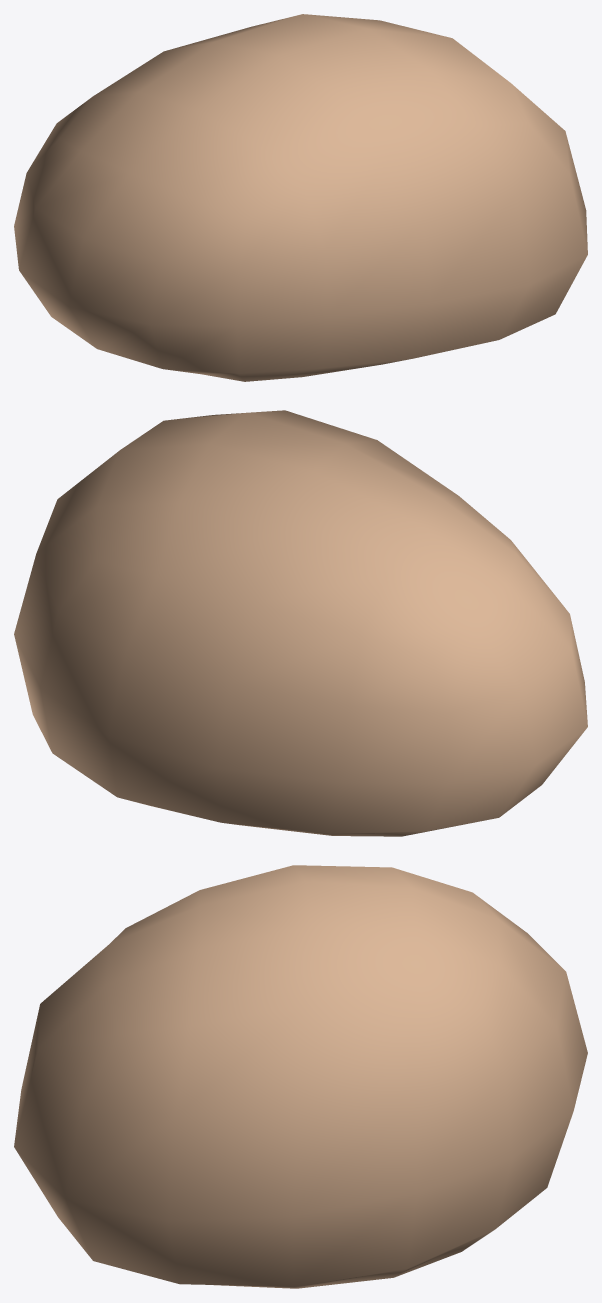
Rendered from Pebble_1c.gltf.
3 views of the same model, one above another, from view 1: azimuth 30°, elevation 25°; view 2: azimuth 150°, elevation 25°; view 3: azimuth 270°, elevation 25° (orthographic). The views are drawn at different scales.
Parts seen in each view (by area): view 1: Pebble_1c; view 2: Pebble_1c; view 3: Pebble_1c.
Boxes of the visible parts, x1=… form: Pebble_1c: x1=14, y1=14, x2=587, y2=381; Pebble_1c: x1=14, y1=410, x2=587, y2=836; Pebble_1c: x1=14, y1=865, x2=587, y2=1288.
Size of the model in its own units: 43.37 by 24.17 by 38.6.
1 material, 1 textured.
